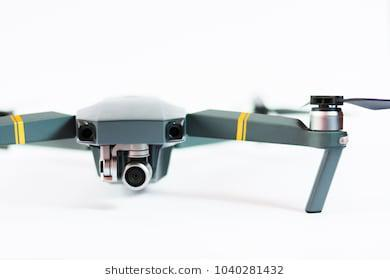drone: (0, 56, 385, 218)
